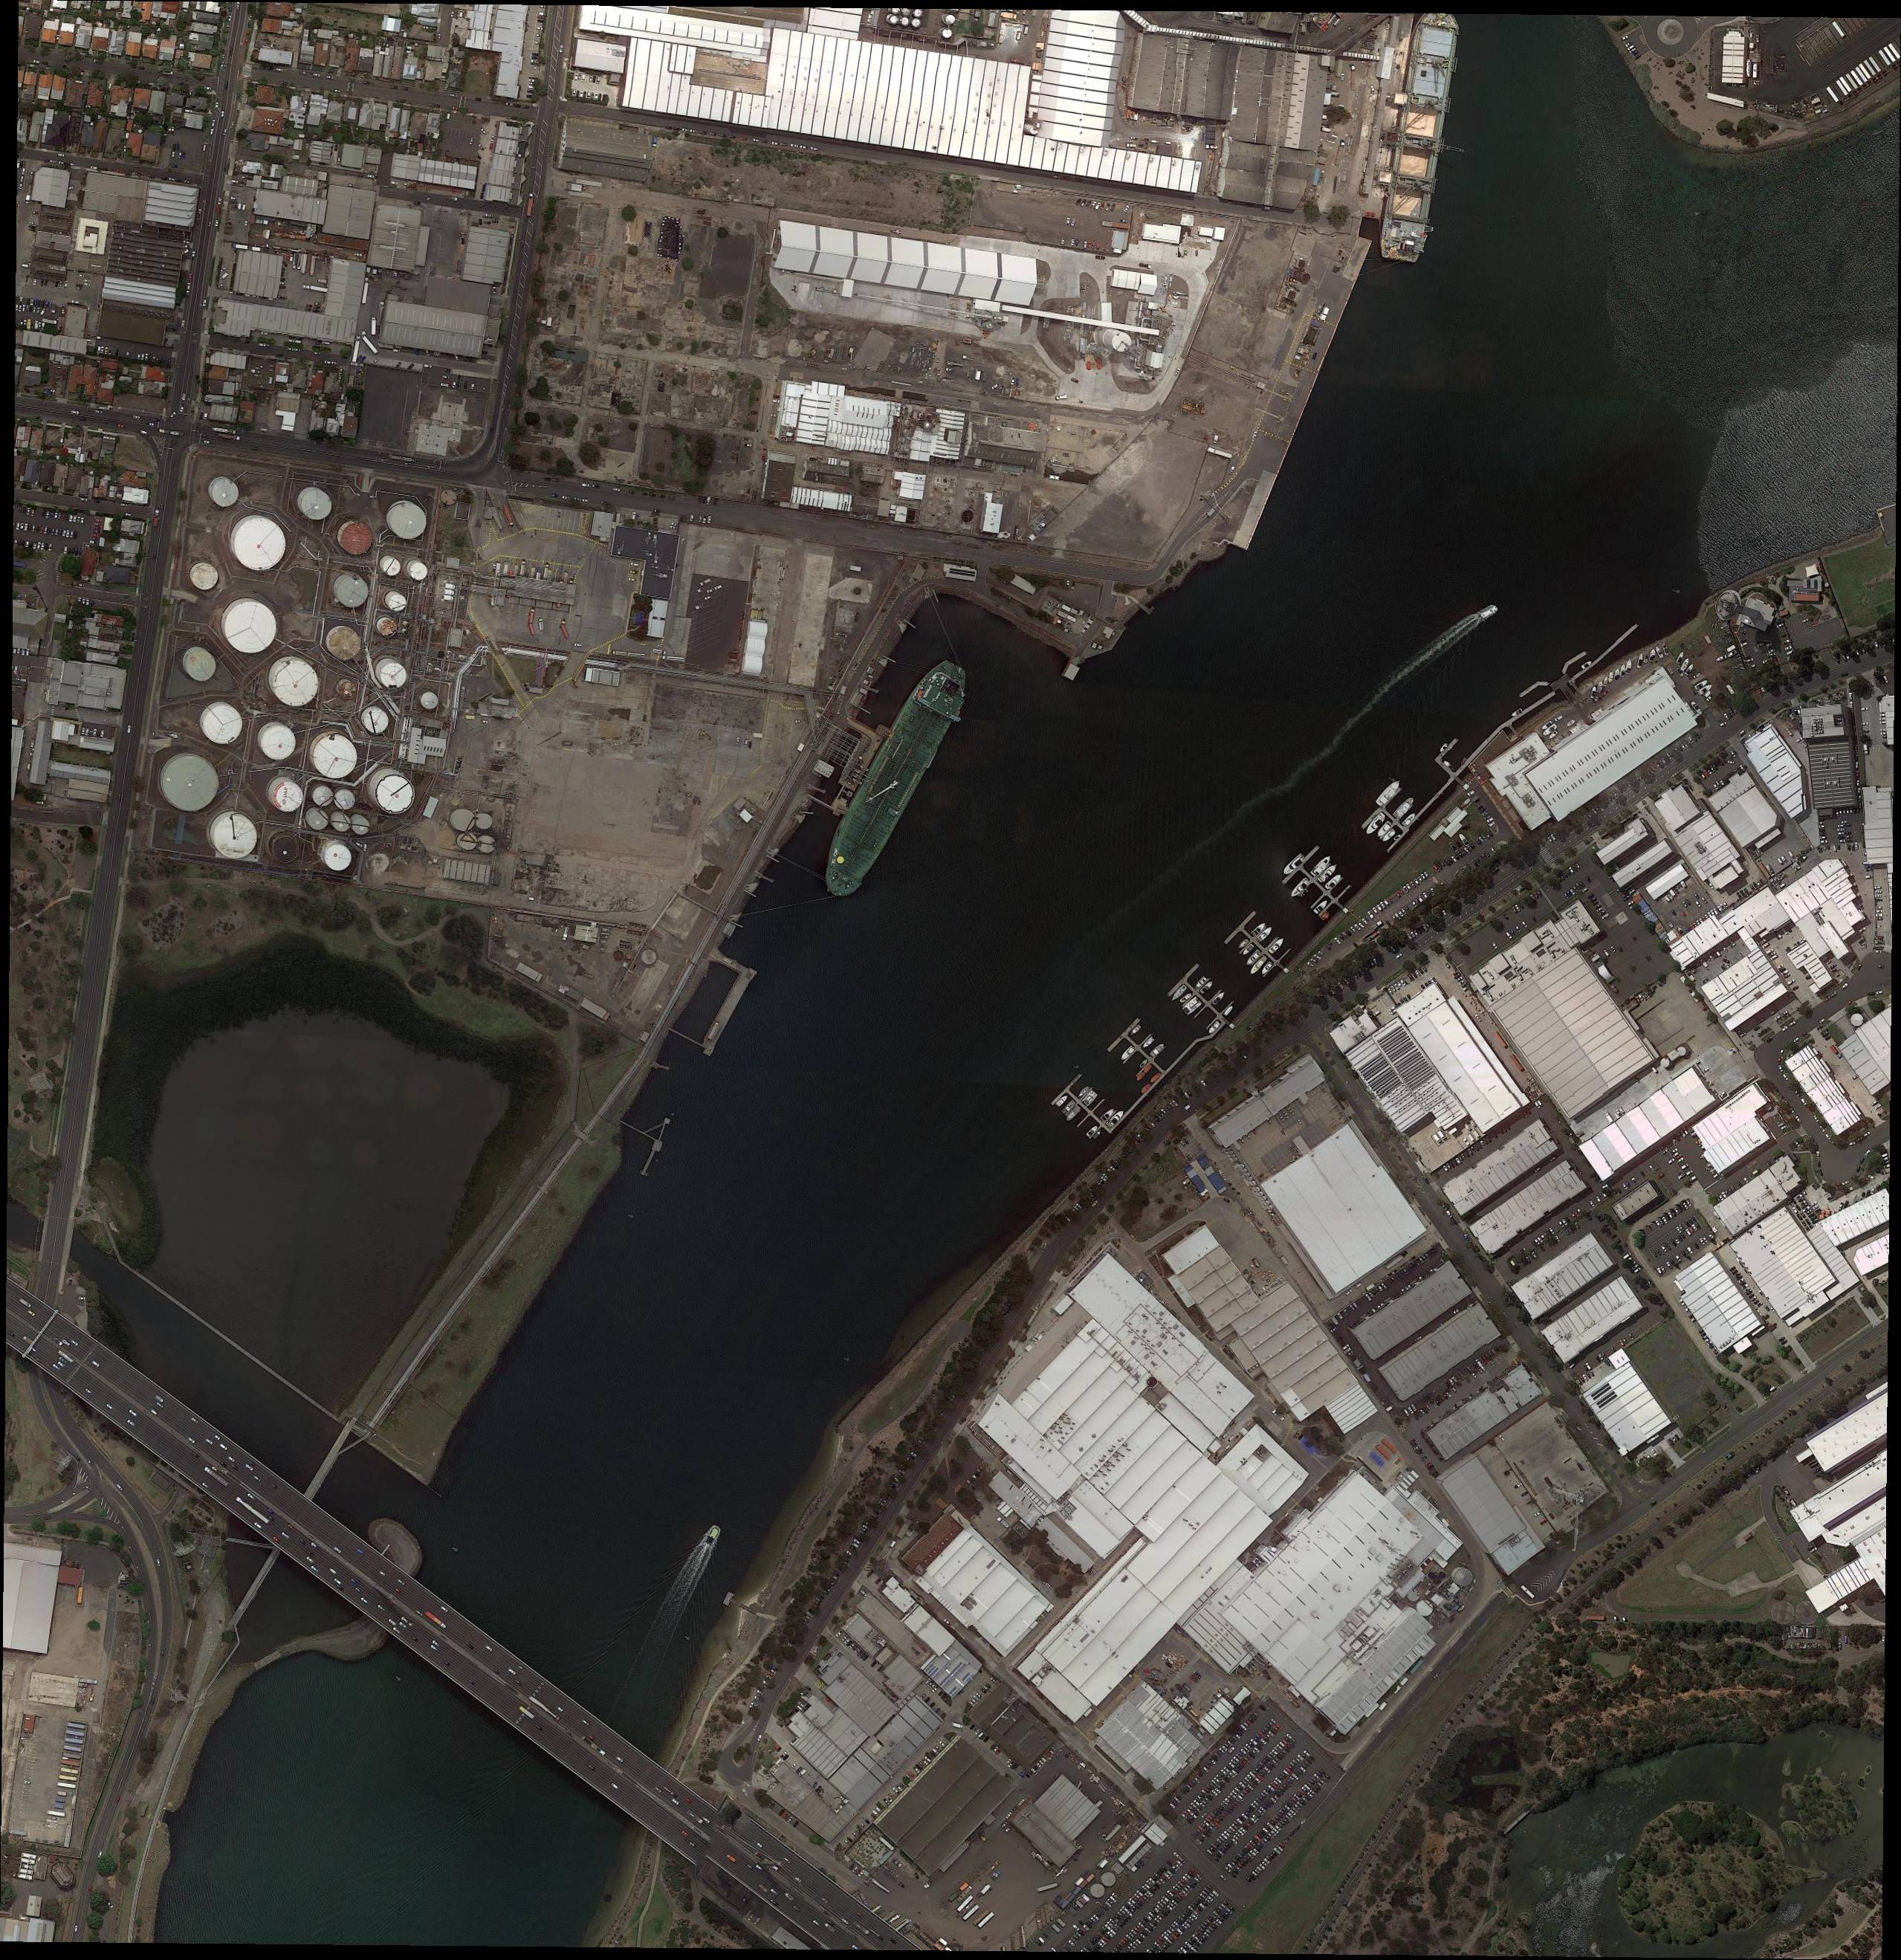bridge: (222, 1459, 663, 1811)
harbor: (1281, 849, 1360, 926), (1168, 962, 1245, 1039), (1052, 1074, 1124, 1146), (1108, 1020, 1180, 1090), (1227, 910, 1292, 978), (700, 973, 753, 1057), (1593, 623, 1638, 665), (1360, 809, 1383, 831), (1437, 737, 1458, 761), (1381, 787, 1402, 809), (1386, 831, 1406, 854), (1518, 681, 1540, 700), (641, 1150, 656, 1176), (1567, 651, 1588, 665)
large vehicle: (236, 1496, 270, 1524), (529, 1696, 562, 1722), (203, 1466, 229, 1487), (425, 1612, 448, 1629), (361, 334, 378, 353), (502, 504, 515, 527), (361, 276, 369, 304), (613, 651, 646, 658), (352, 336, 361, 362), (518, 1705, 534, 1719), (219, 432, 242, 441), (305, 285, 327, 292), (527, 194, 534, 217), (214, 427, 236, 434), (19, 1298, 32, 1309), (373, 317, 376, 336)
ship: (807, 654, 977, 903), (1376, 14, 1465, 264), (1374, 777, 1402, 807), (1364, 812, 1388, 838), (1392, 796, 1416, 821), (1283, 854, 1306, 878), (1309, 854, 1332, 878), (702, 1524, 723, 1547), (1290, 877, 1311, 899), (1318, 863, 1339, 884), (1248, 954, 1267, 977), (1106, 1109, 1126, 1129), (1479, 604, 1500, 621), (1171, 983, 1189, 1003), (1245, 949, 1262, 968), (1267, 936, 1285, 955), (1325, 873, 1343, 891), (1376, 821, 1393, 838), (1257, 926, 1273, 943), (1120, 1045, 1136, 1062), (1066, 1106, 1082, 1123), (1211, 992, 1227, 1008), (1099, 1108, 1115, 1123), (1252, 921, 1266, 938), (1402, 810, 1416, 828), (1315, 899, 1329, 915), (1381, 829, 1397, 843), (1054, 1094, 1070, 1108), (1150, 1043, 1166, 1057), (1260, 962, 1274, 977), (1199, 980, 1213, 994), (1141, 1036, 1155, 1050), (1243, 943, 1255, 957), (1222, 1005, 1236, 1017), (1208, 1022, 1220, 1036), (1196, 977, 1208, 989), (1085, 1125, 1098, 1137)
storage tank: (163, 756, 219, 812), (235, 518, 287, 570), (226, 602, 277, 654), (275, 660, 320, 709), (315, 733, 357, 779), (215, 815, 257, 859), (376, 775, 415, 814), (205, 705, 242, 745), (390, 500, 427, 539), (261, 725, 296, 759), (340, 523, 373, 556), (338, 574, 369, 609), (329, 626, 361, 661), (273, 781, 305, 812), (303, 488, 333, 520), (187, 651, 217, 681), (212, 480, 238, 508), (326, 843, 352, 871), (193, 563, 219, 590), (382, 661, 406, 689), (364, 707, 389, 735), (452, 810, 474, 831), (313, 786, 334, 807), (334, 789, 355, 810), (308, 809, 329, 829), (410, 562, 429, 581), (389, 593, 408, 612), (383, 558, 401, 577), (340, 681, 357, 700), (478, 835, 495, 854), (380, 619, 397, 637), (1455, 1568, 1472, 1586), (460, 833, 478, 850), (422, 691, 438, 710), (334, 814, 350, 833), (1418, 1599, 1434, 1617), (352, 819, 369, 835), (1091, 1881, 1105, 1899), (478, 814, 492, 829), (1103, 1873, 1117, 1887), (1852, 1013, 1864, 1027), (1677, 1046, 1687, 1057), (945, 14, 956, 24), (1661, 1057, 1670, 1069), (943, 28, 952, 38), (889, 14, 898, 24), (901, 17, 910, 26), (912, 19, 921, 28), (915, 9, 922, 17)
